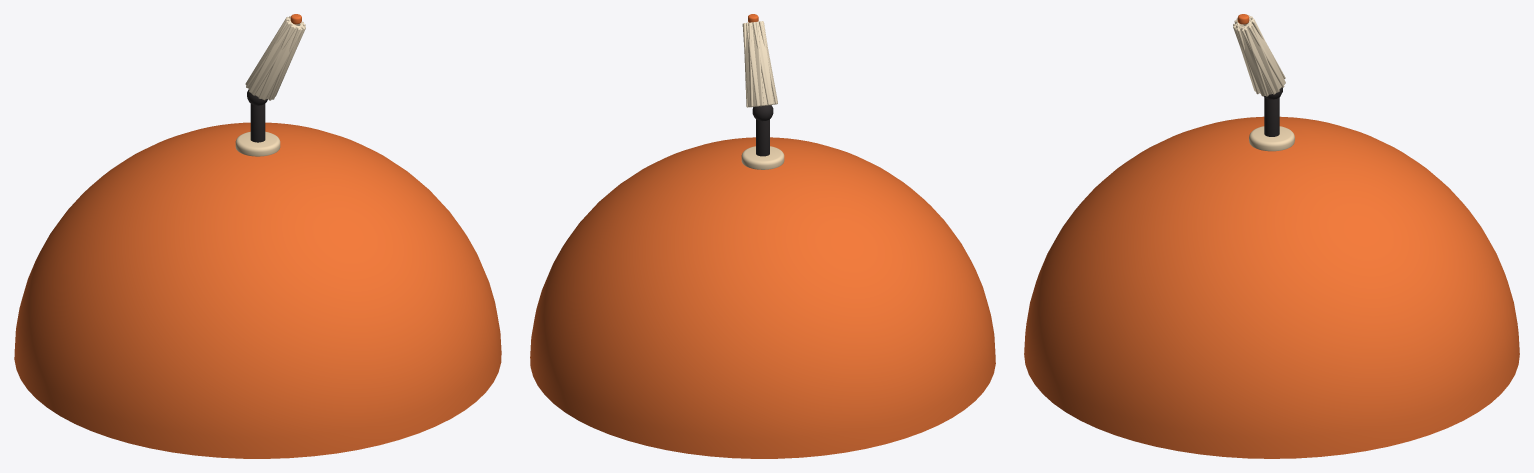
The model's file is arkdish-folded.glb.
3 renders of one model, left to right at view 1: azimuth 30°, elevation 25°; view 2: azimuth 150°, elevation 25°; view 3: azimuth 270°, elevation 25°, orthographic. The views are drawn at different scales.
Parts seen in each view (by area): view 1: Cylinder.002, Cube, Cylinder, Cylinder.001; view 2: Cylinder.002, Cube, Cylinder.001, Cylinder; view 3: Cylinder.002, Cube, Cylinder, Cylinder.001.
Boxes of the visible parts, x1,y1,x2,y2 form: Cylinder.002: (14, 14, 501, 458); Cube: (245, 16, 305, 100); Cylinder: (235, 131, 280, 156); Cylinder.001: (247, 89, 267, 142); Cylinder.002: (530, 14, 995, 458); Cube: (742, 21, 777, 107); Cylinder.001: (752, 105, 773, 156); Cylinder: (741, 146, 784, 169); Cylinder.002: (1024, 14, 1519, 458); Cube: (1233, 15, 1285, 96); Cylinder: (1249, 126, 1294, 151); Cylinder.001: (1263, 87, 1282, 136).
Size of the model in its own units: 2.6 by 2.03 by 2.6.
